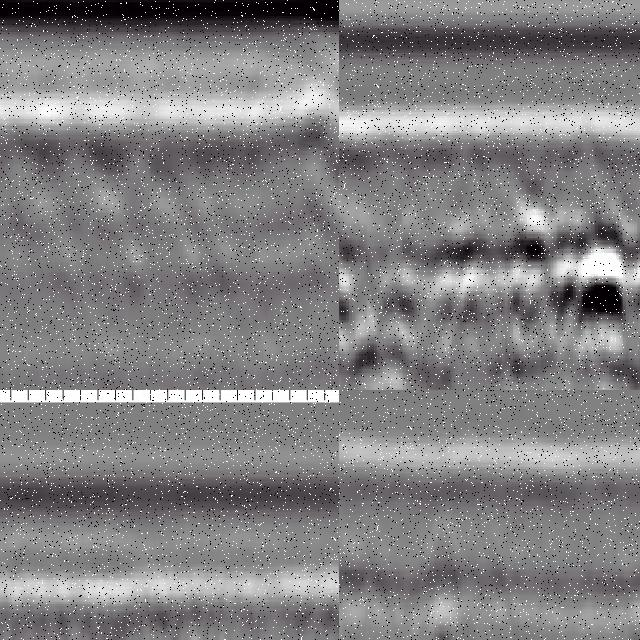crack: (424, 520, 457, 640)
loose: (11, 88, 340, 312), (340, 213, 640, 363)
